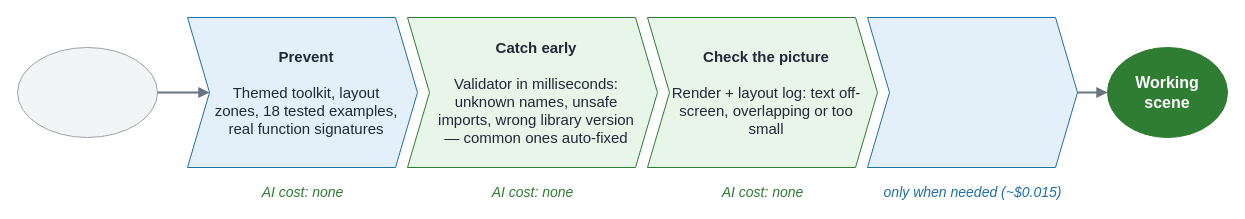
The diagram is 1245 pixels wide and 219 high, and some of its shapes have lost their labels. The centre of each missing label's shape, as x and y in pixels:
"AI-written scene code" belongs at [87,92].
"Repair Fixer edits only the broken lines, then re-checks" belongs at [972,92].
